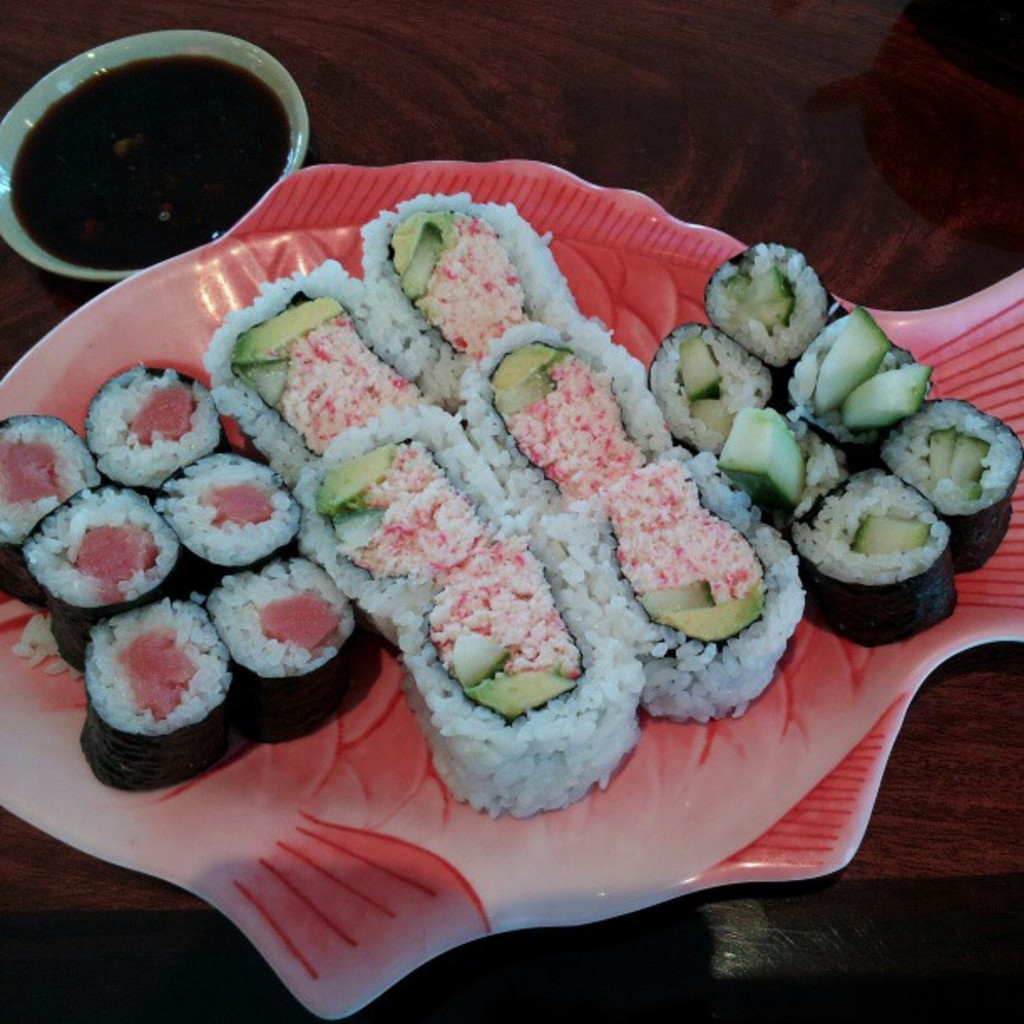sushi: (0, 199, 1019, 815), (192, 552, 380, 745), (84, 606, 241, 795)
